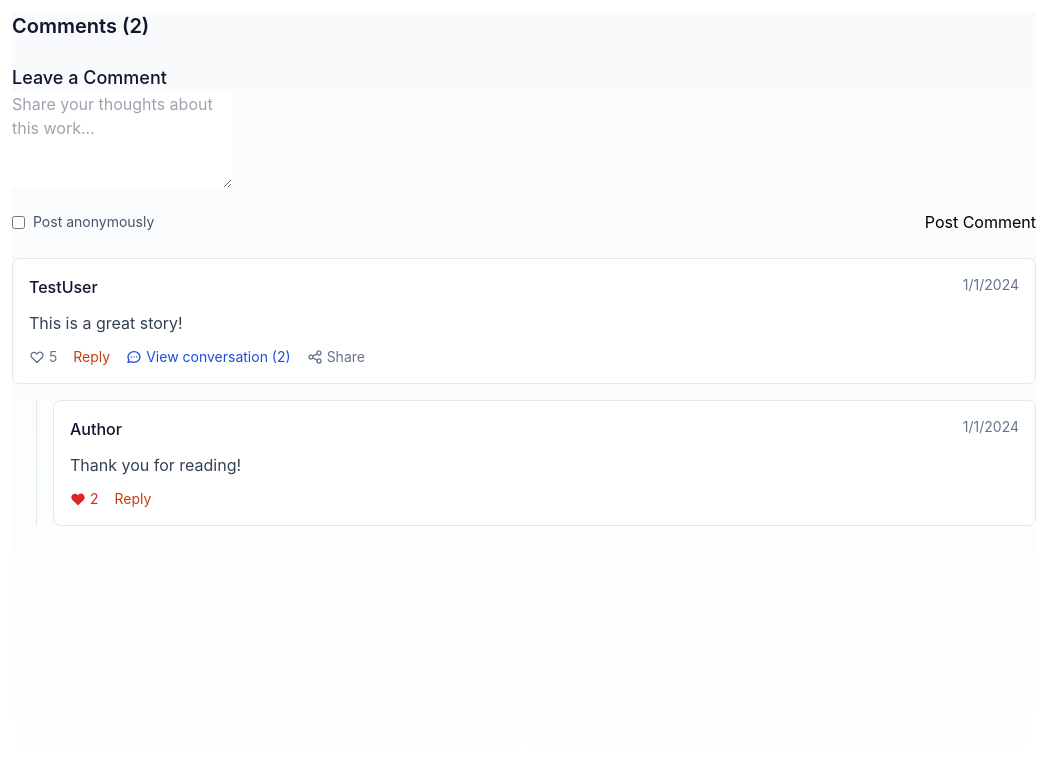
Test: Comments › shows reply form when reply button is clicked
Check: the text "This is a great story!" is shown, box [29,313,183,333]
Click the button "Reply" below "This is a great story!" at (92, 357), box [73,347,110,367]
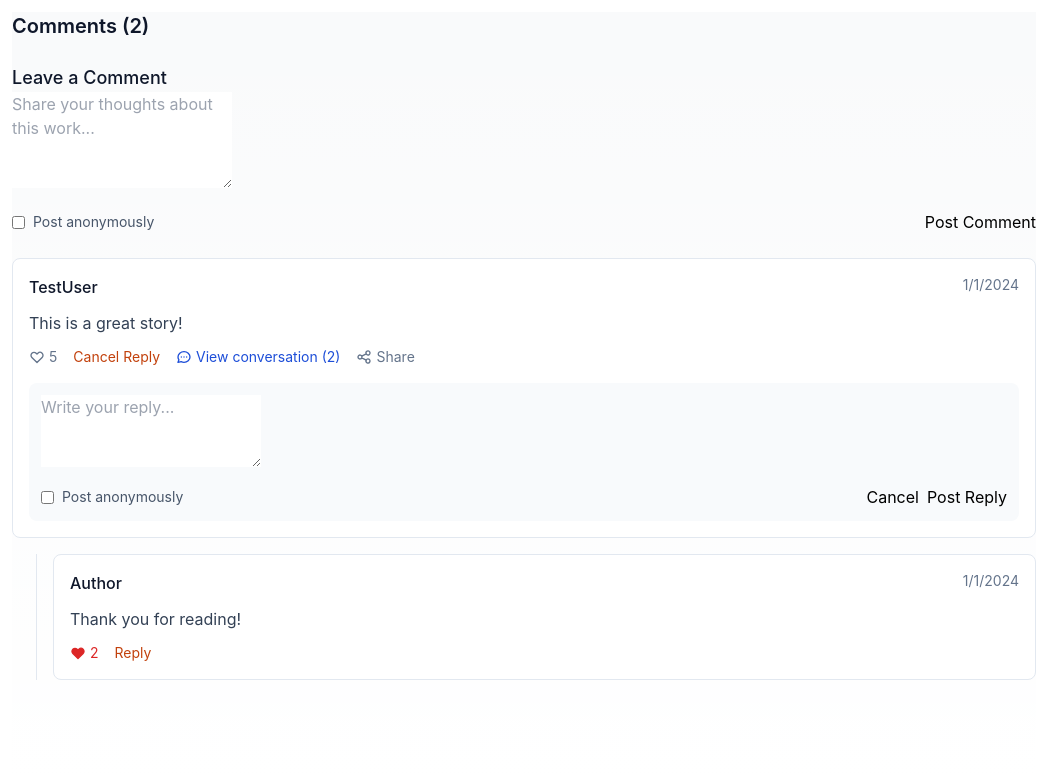
Check: the text box with placeholder "Write your reply..." is shown, box [41,395,261,467]
Check: the button "Post Reply" is shown, box [927,485,1007,509]
